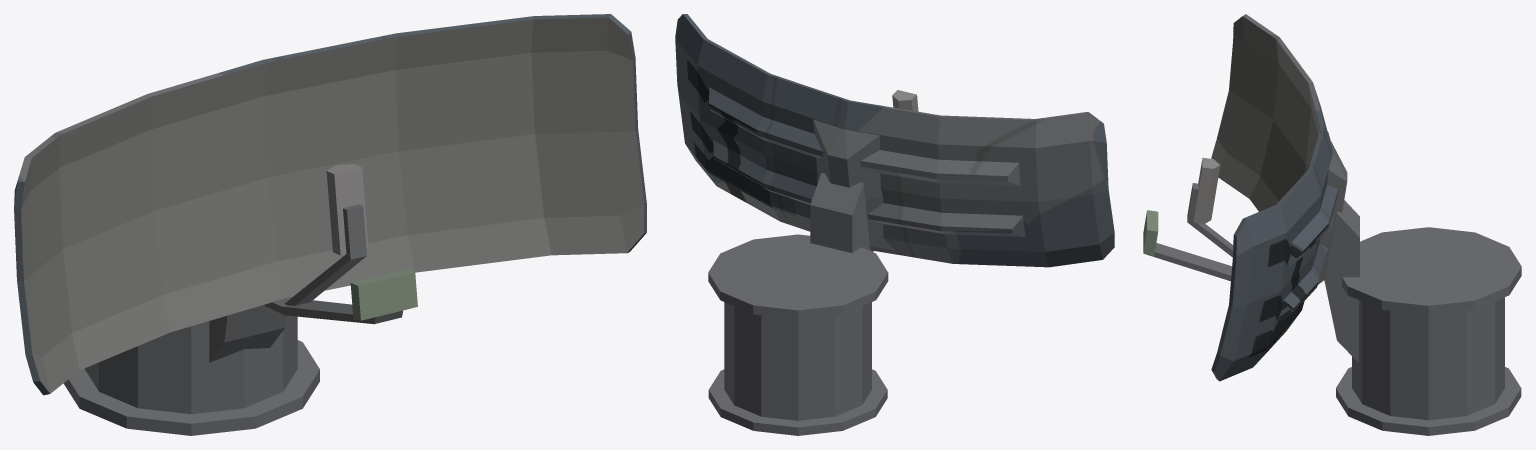
File: SM_Prop_Mobile_Radar_01_Mid.glb
The picture shows the model from 3 angles, left to right: view 1: azimuth 30°, elevation 25°; view 2: azimuth 150°, elevation 25°; view 3: azimuth 270°, elevation 25°; orthographic projection. The views are drawn at different scales.
Visible parts, largest first — view 1: SM_Prop_Mobile_Radar_01_Mid; view 2: SM_Prop_Mobile_Radar_01_Mid; view 3: SM_Prop_Mobile_Radar_01_Mid.
Part boxes in pixels (x1,y1,x2,y2): SM_Prop_Mobile_Radar_01_Mid: (14, 14, 646, 435); SM_Prop_Mobile_Radar_01_Mid: (675, 14, 1114, 435); SM_Prop_Mobile_Radar_01_Mid: (1143, 14, 1521, 435).
Bounding box in the file's own units: 2.25 × 1.34 × 1.65.
Materials: 1 (1 with a texture image).
